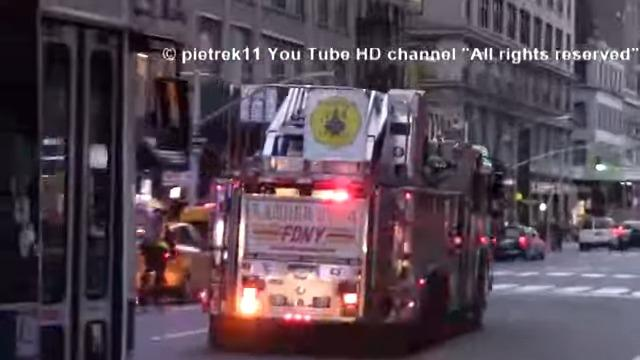Fire-engine: (197, 79, 509, 355)
